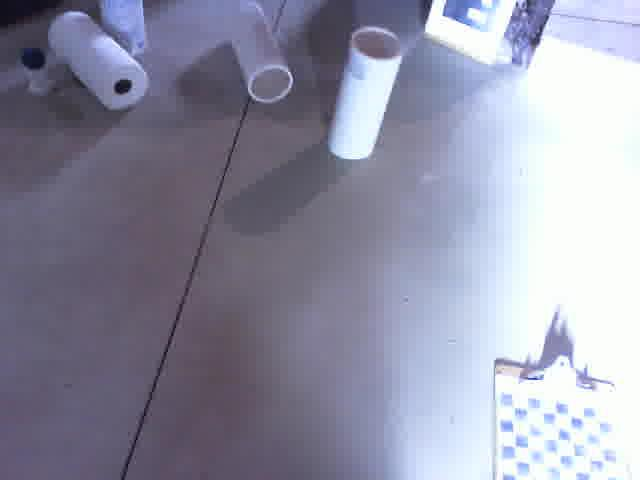coral: (331, 22, 406, 163), (218, 0, 295, 105)
